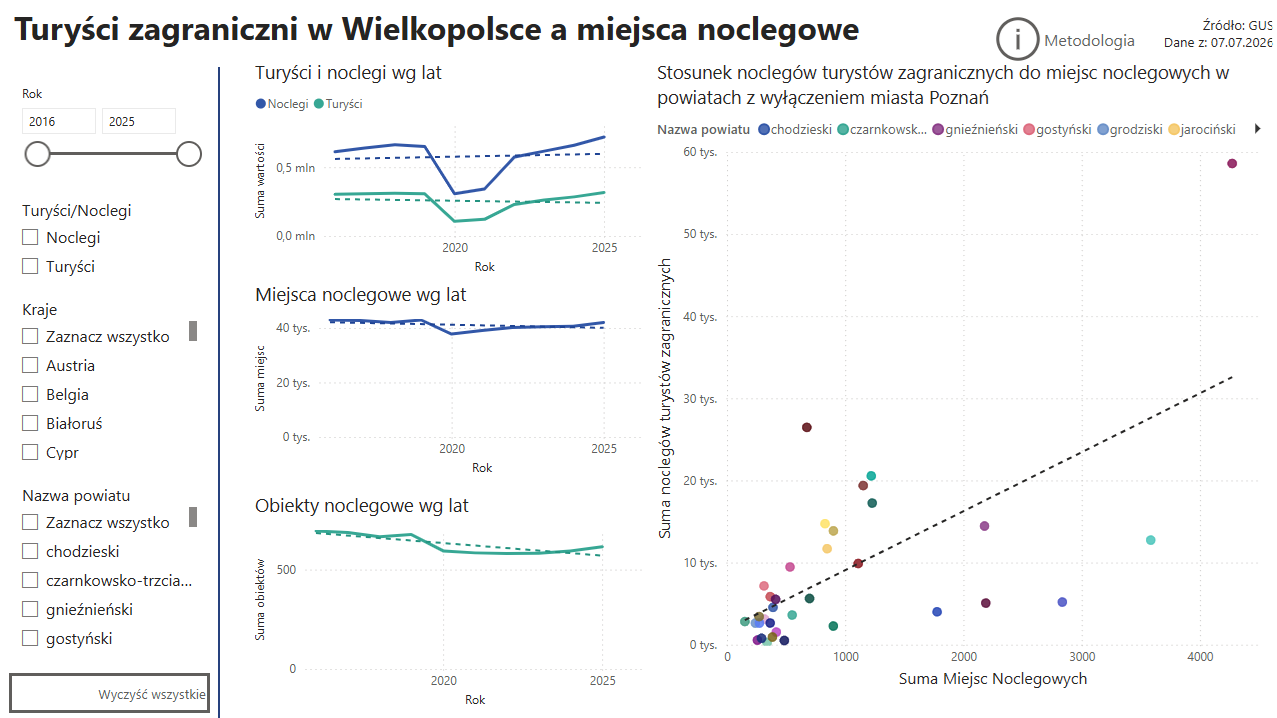

What the dashboard file says about the page in this screenshot:
{"tool":"powerbi","page":{"name":"Miejsca noclegowe","canvas":[1280,720],"ordinal":4},"visuals":[{"type":"slicer","fields":{"Values":["DANE_Wielkopolska.Rok"]},"box":[9.7,79.8,201.3,99.2],"z":0},{"type":"shape","box":[211.1,67.1,17.5,652.6],"z":1000},{"type":"slicer","fields":{"Values":["DANE_Wielkopolska.Kraje"]},"box":[9.7,292.8,193.6,172.2],"z":2000},{"type":"slicer","fields":{"Values":["DANE_Wielkopolska.Nazwa powiatu"]},"box":[9.7,479,193.6,179.9],"z":3000},{"type":"textbox","box":[9.7,0,892.9,59.3],"z":4000},{"type":"slicer","fields":{"Values":["DANE_Wielkopolska.Turyści/Noclegi - etykieta"]},"box":[9.7,193.6,193.6,99.2],"z":5000},{"type":"actionButton","box":[9.7,673.1,201.3,39.9],"z":6000},{"type":"textbox","box":[1122.1,10.7,157.6,56.4],"z":7000},{"type":"scatterChart","title":"Stosunek noclegów turystów zagranicznych do miejsc noclegowych w powiatach z wyłączeniem miasta Poznań","fields":{"Series":["DANE_Wielkopolska.Nazwa powiatu"],"X":["Sum(MiejscaNoclegowe.Wartosc)"],"Y":["Sum(DANE_Wielkopolska.Wartosc)"]},"box":[653.3,58.9,624.4,634.4],"z":8000},{"type":"lineChart","title":"Turyści i noclegi wg lat","fields":{"Category":["DANE_Wielkopolska.Rok"],"Series":["DANE_Wielkopolska.Turyści/Noclegi - etykieta"],"Y":["Sum(DANE_Wielkopolska.Wartosc)"]},"box":[251.1,58.9,402.2,220],"z":9000},{"type":"lineChart","title":"Miejsca noclegowe wg lat","fields":{"Category":["MiejscaNoclegowe.Rok"],"Series":["MiejscaNoclegowe.Obiekty, miejsca i pokoje"],"Y":["Sum(MiejscaNoclegowe.Wartosc)"]},"box":[251.1,281.1,402.2,198.9],"z":10000},{"type":"lineChart","title":"Obiekty noclegowe wg lat","fields":{"Category":["MiejscaNoclegowe.Rok"],"Series":["MiejscaNoclegowe.Obiekty, miejsca i pokoje"],"Y":["Sum(MiejscaNoclegowe.Wartosc)"]},"box":[251.1,492.2,402.2,220],"z":11000},{"type":"actionButton","box":[991.1,10.7,148.8,56.4],"z":12000}]}

Visuals, with their boxes on the page's 1280x720 design canvas (x1, y1, x2, y2). These are canvas units, not pixel positions in the 1277x718 screenshot, which may show the page scaled, cropped or inside an application window:
slicer - DANE_Wielkopolska.Rok: l=10, t=80, r=211, b=179
shape: l=211, t=67, r=229, b=720
slicer - DANE_Wielkopolska.Kraje: l=10, t=293, r=203, b=465
slicer - DANE_Wielkopolska.Nazwa powiatu: l=10, t=479, r=203, b=659
textbox: l=10, t=0, r=903, b=59
slicer - DANE_Wielkopolska.Turyści/Noclegi - etykieta: l=10, t=194, r=203, b=293
actionButton: l=10, t=673, r=211, b=713
textbox: l=1122, t=11, r=1280, b=67
"Stosunek noclegów turystów zagranicznych do miejsc noclegowych w powiatach z wyłączeniem miasta Poznań" scatterChart: l=653, t=59, r=1278, b=693
"Turyści i noclegi wg lat" lineChart: l=251, t=59, r=653, b=279
"Miejsca noclegowe wg lat" lineChart: l=251, t=281, r=653, b=480
"Obiekty noclegowe wg lat" lineChart: l=251, t=492, r=653, b=712
actionButton: l=991, t=11, r=1140, b=67
